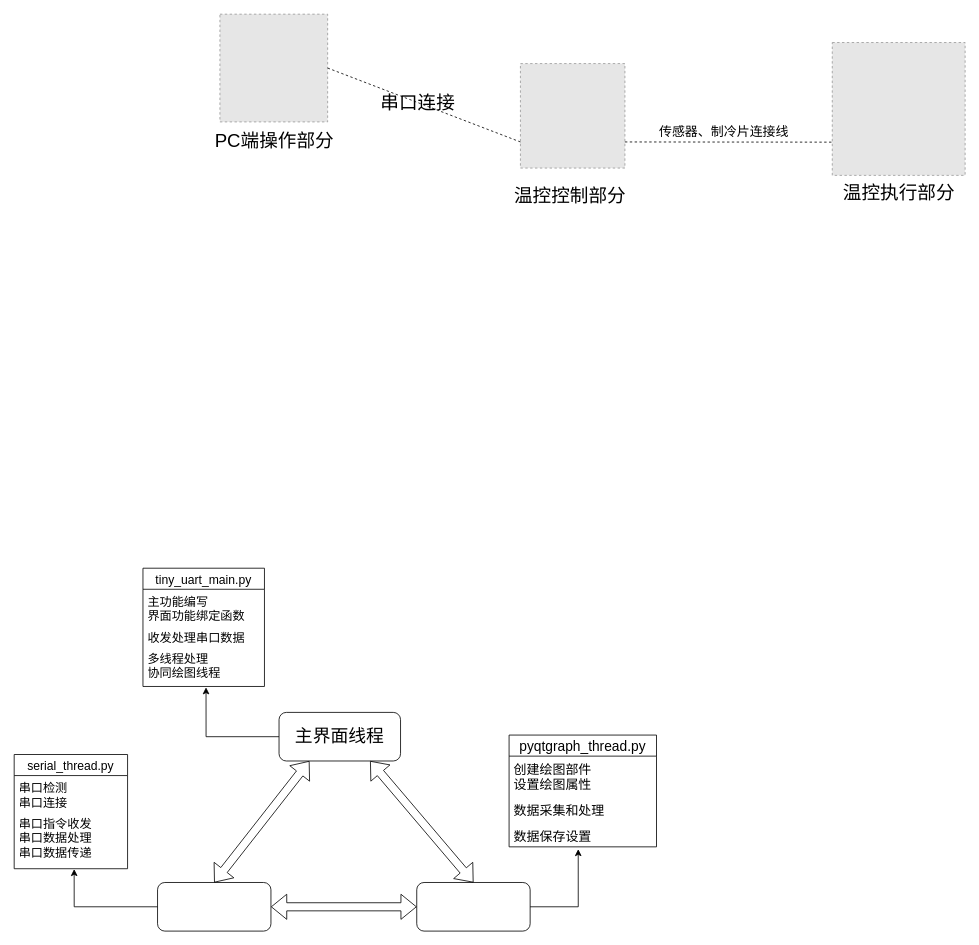
Image size: 979x945. Some labels were removed from this diagram. Grey dashed boxes stand in for pictures. The centre of each missing label's shape, as x and y in pixels:
"串口线程" goes at (214,906).
"绘图线程" goes at (473,906).
